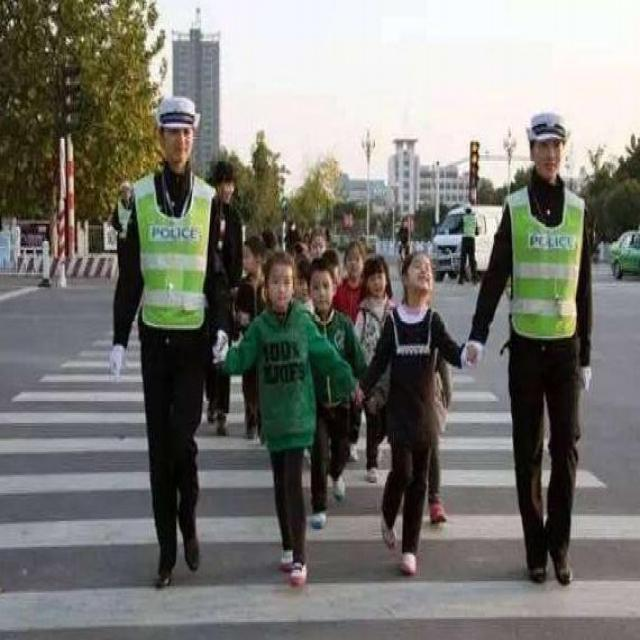no-helmet: (523, 108, 573, 156), (154, 96, 202, 142), (264, 248, 298, 290), (402, 252, 434, 280), (306, 260, 332, 294), (212, 161, 239, 193), (364, 256, 388, 288), (239, 234, 264, 264), (344, 239, 364, 266), (306, 226, 326, 252)
no-vest: (244, 305, 323, 441), (383, 312, 446, 436), (354, 300, 394, 336)
vest: (130, 165, 220, 333), (506, 180, 587, 344), (461, 210, 481, 238)
